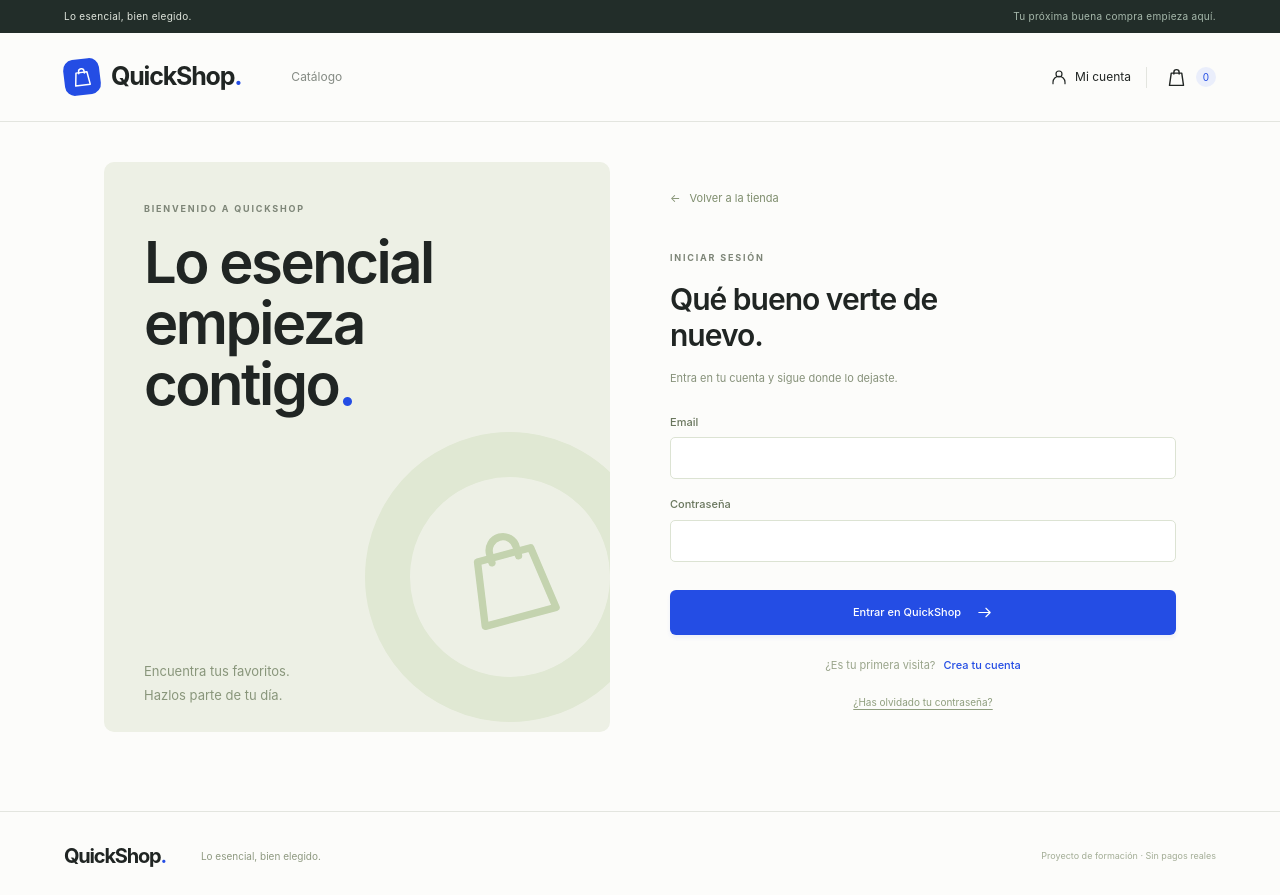
QuickShop › mantiene al usuario en acceso y muestra un error de credenciales
In the field labelled "Email": (923, 458) [670, 437, 1176, 479], type "one@example.com"
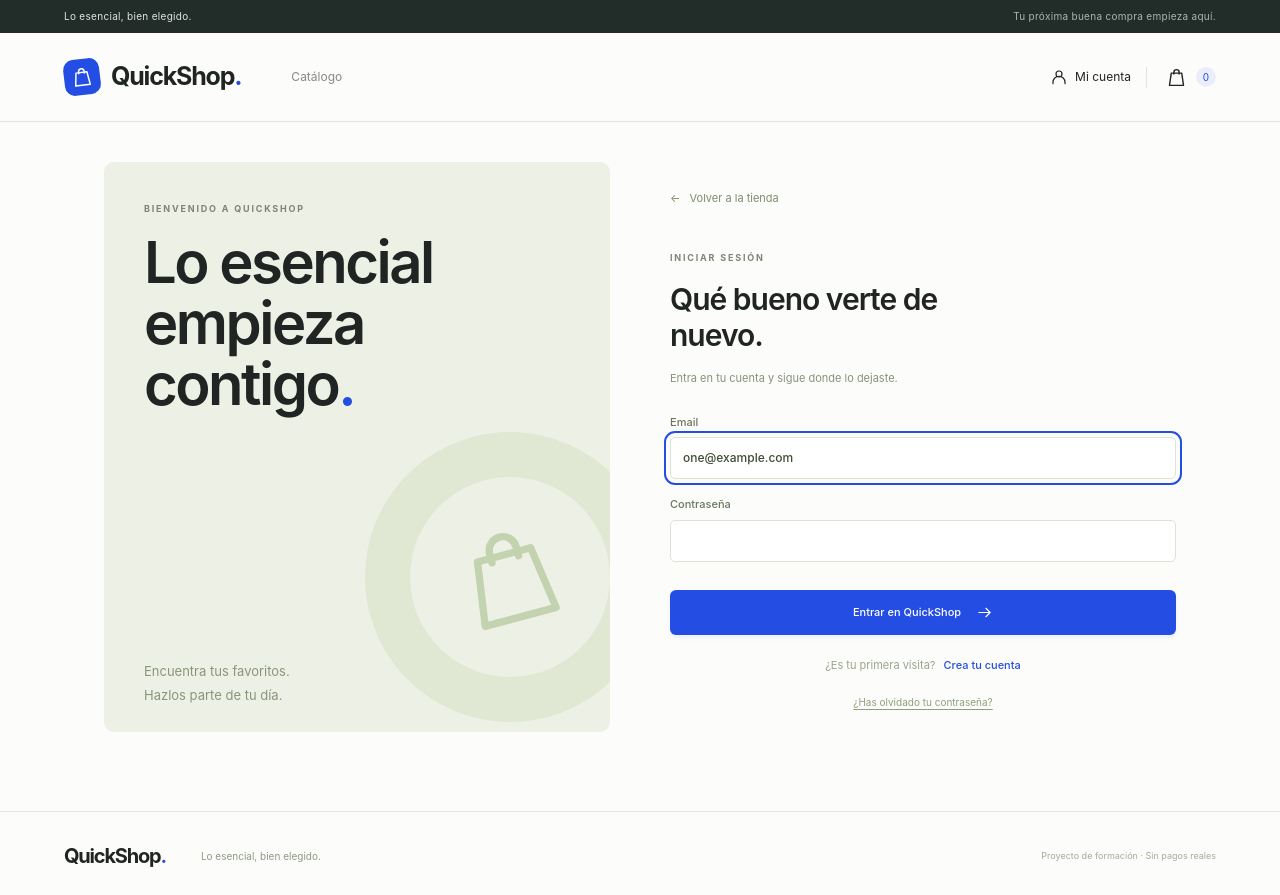
In the password field labelled "Contraseña": (923, 541) [670, 520, 1176, 562], type "Incorrecta123!"
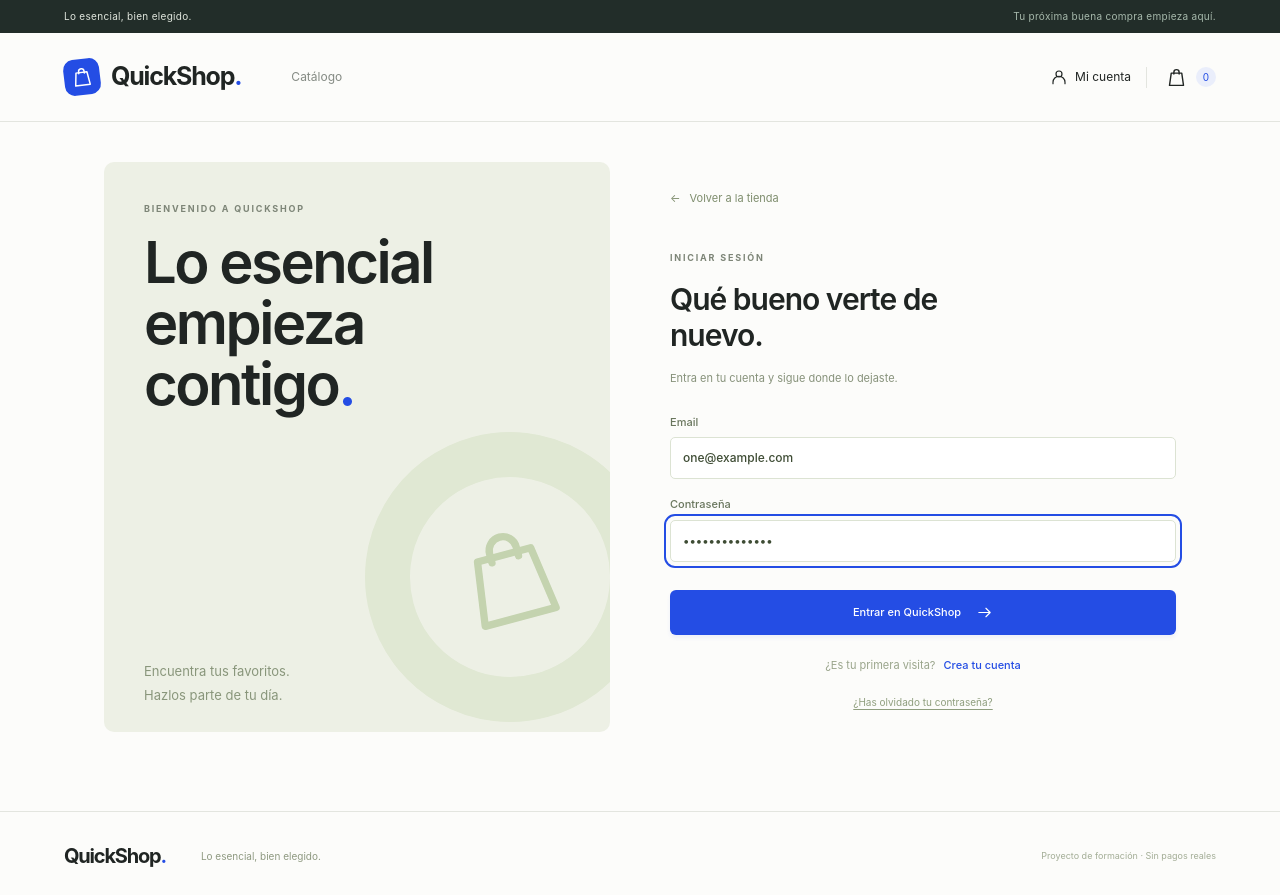
Click the button "Entrar en QuickShop": (923, 612) [670, 590, 1176, 635]
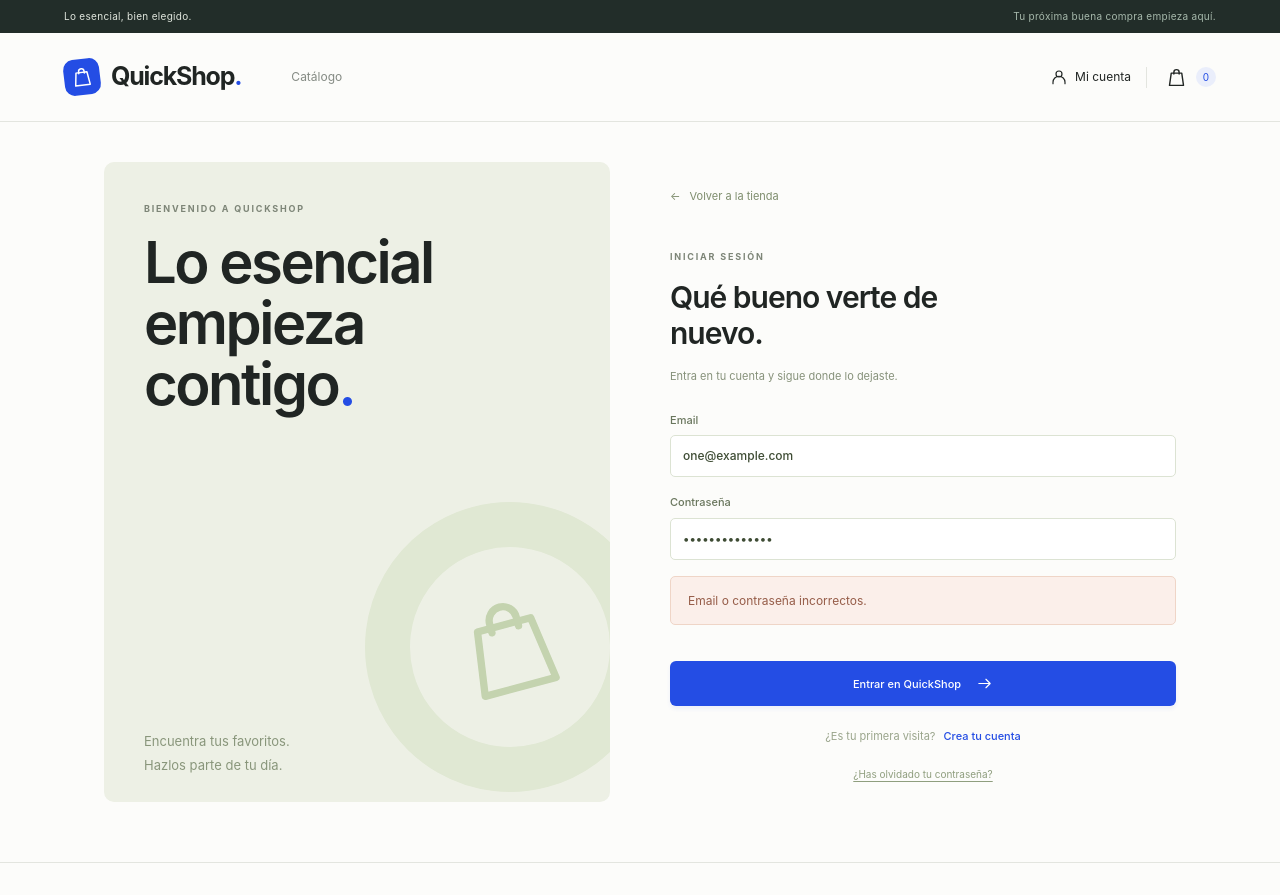
Result: the message reads "Email o contraseña incorrectos." at [688, 593, 867, 608]
